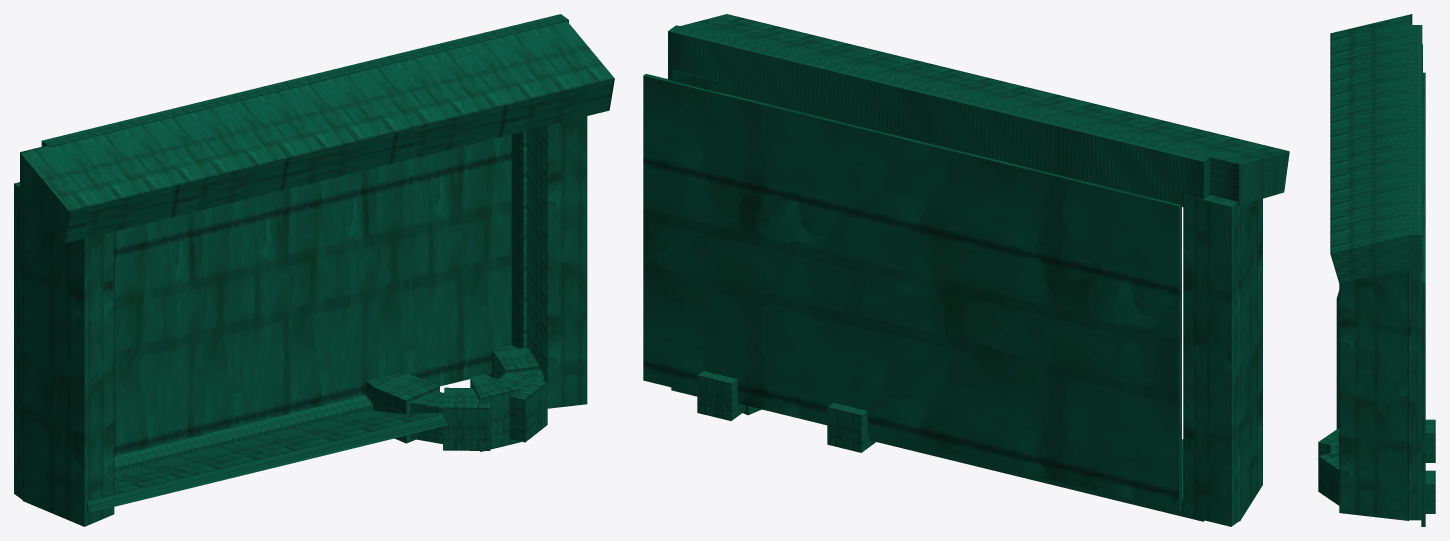
Rendered from coordior5_wtf.obj.
The picture shows the model from 3 angles, left to right: view 1: azimuth 30°, elevation 25°; view 2: azimuth 150°, elevation 25°; view 3: azimuth 270°, elevation 25°; orthographic projection. The views are drawn at different scales.
Visible parts, largest first — view 1: group2; view 2: group2; view 3: group2.
Part boxes in pixels (<box>): group2: <box>14,14,614,526</box>; group2: <box>643,14,1289,526</box>; group2: <box>1318,14,1435,526</box>.
Size of the model in its own units: 660 by 404 by 143.
